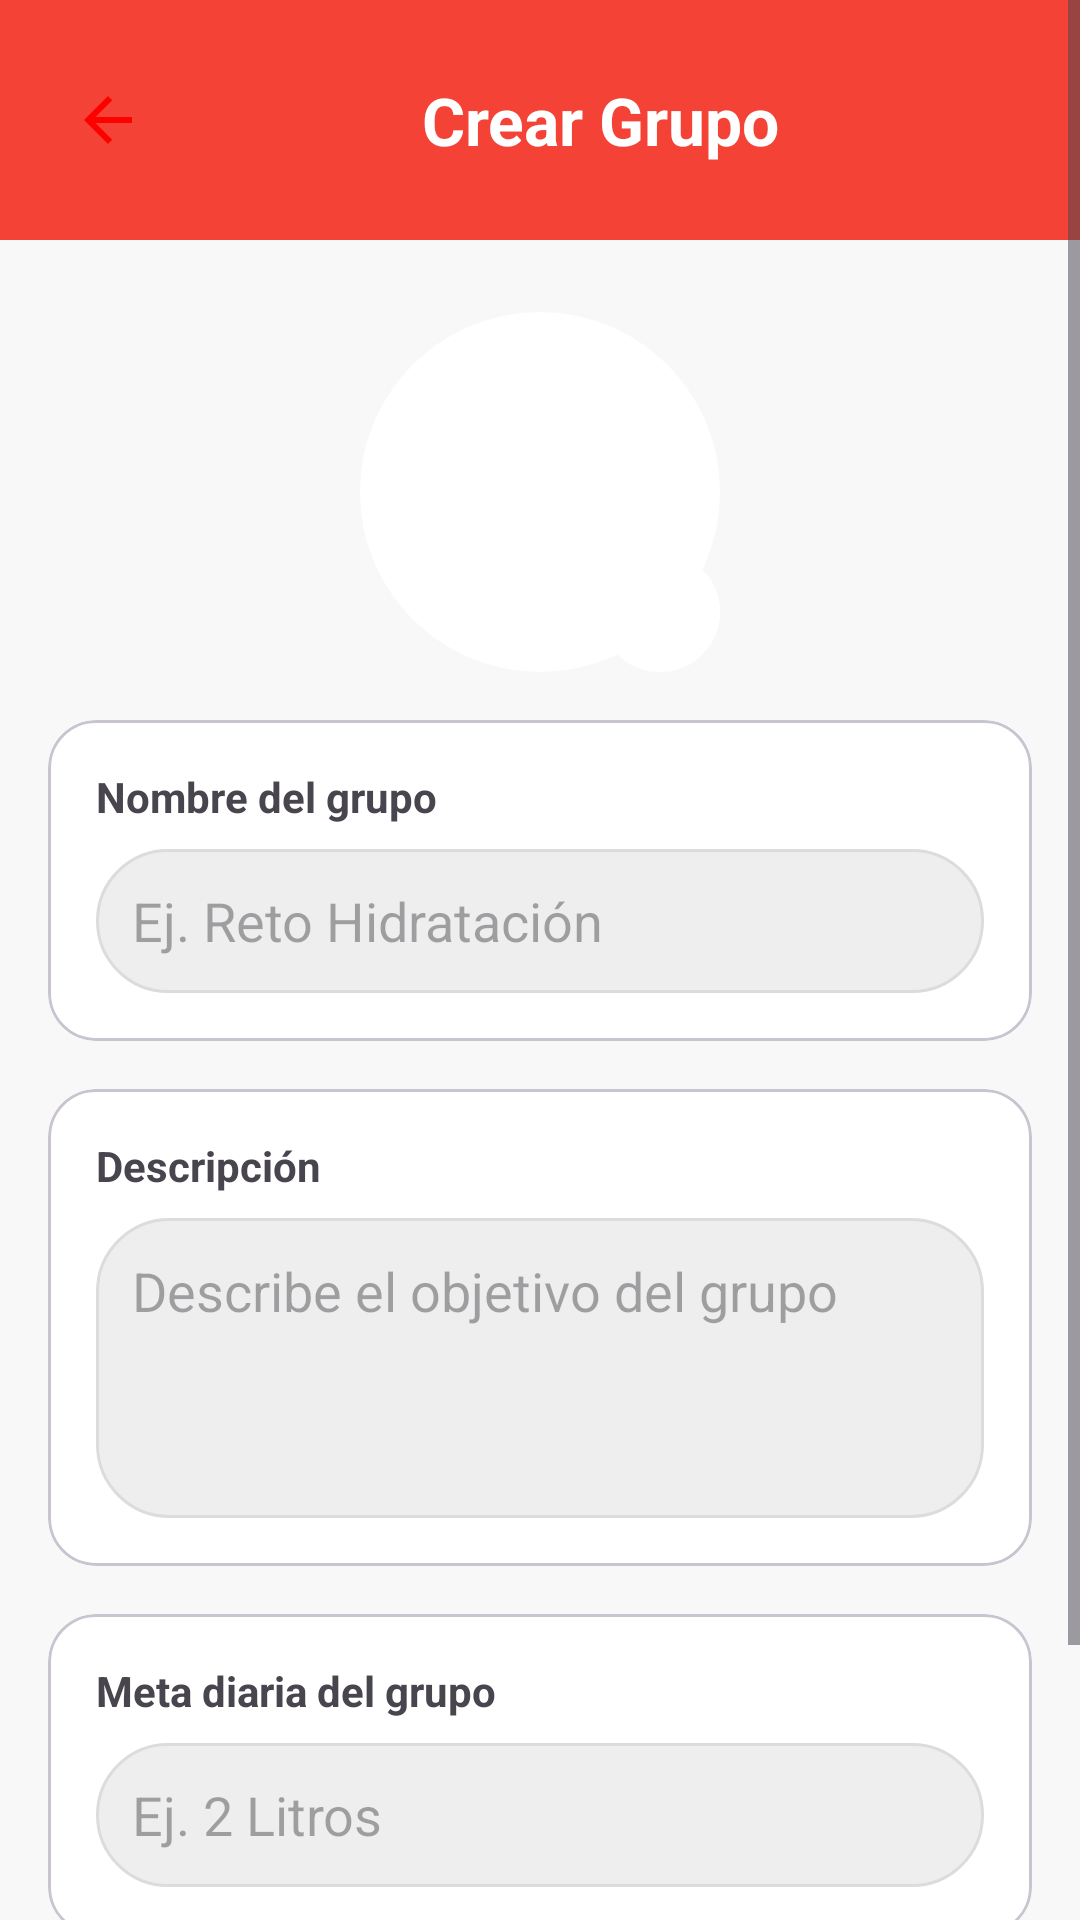

Icon bounding boxes for this 1080px×1920px phone screenshot, format (x1, y1, x2, y2):
regresar: (84, 96, 132, 144)
